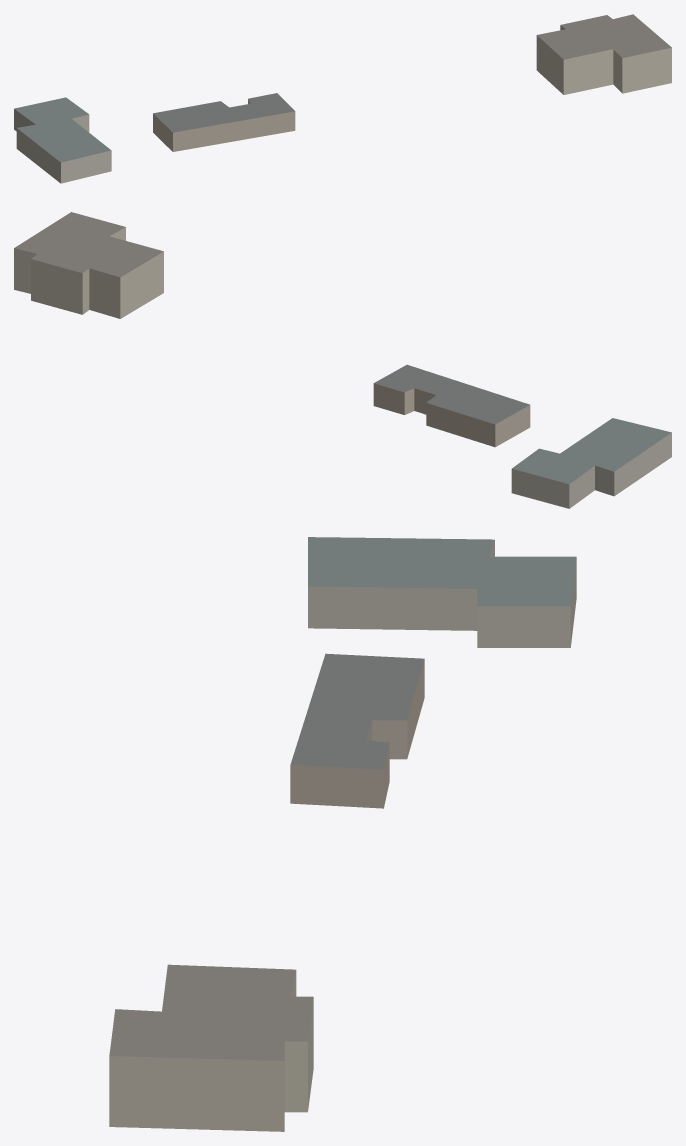
The model's file is d89e074b8836-chunk-1208_11844.glb.
3 views of the same model, one above another, from view 1: azimuth 30°, elevation 25°; view 2: azimuth 150°, elevation 25°; view 3: azimuth 270°, elevation 25° (orthographic). The views are drawn at different scales.
Visible parts, largest first — view 1: building_43514, building_107950, building_66439; view 2: building_43514, building_107950, building_66439; view 3: building_43514, building_107950, building_66439.
Part boxes in pixels (box(x1,y1,x2,y2)): building_43514: box(536, 14, 671, 94); building_107950: box(14, 97, 111, 183); building_66439: box(153, 93, 295, 151); building_43514: box(14, 212, 163, 318); building_107950: box(511, 418, 671, 508); building_66439: box(373, 364, 530, 447); building_43514: box(109, 964, 313, 1131); building_107950: box(308, 537, 576, 647); building_66439: box(290, 653, 424, 808).
Size of the model in its own units: 101 by 6.04 by 36.01.
